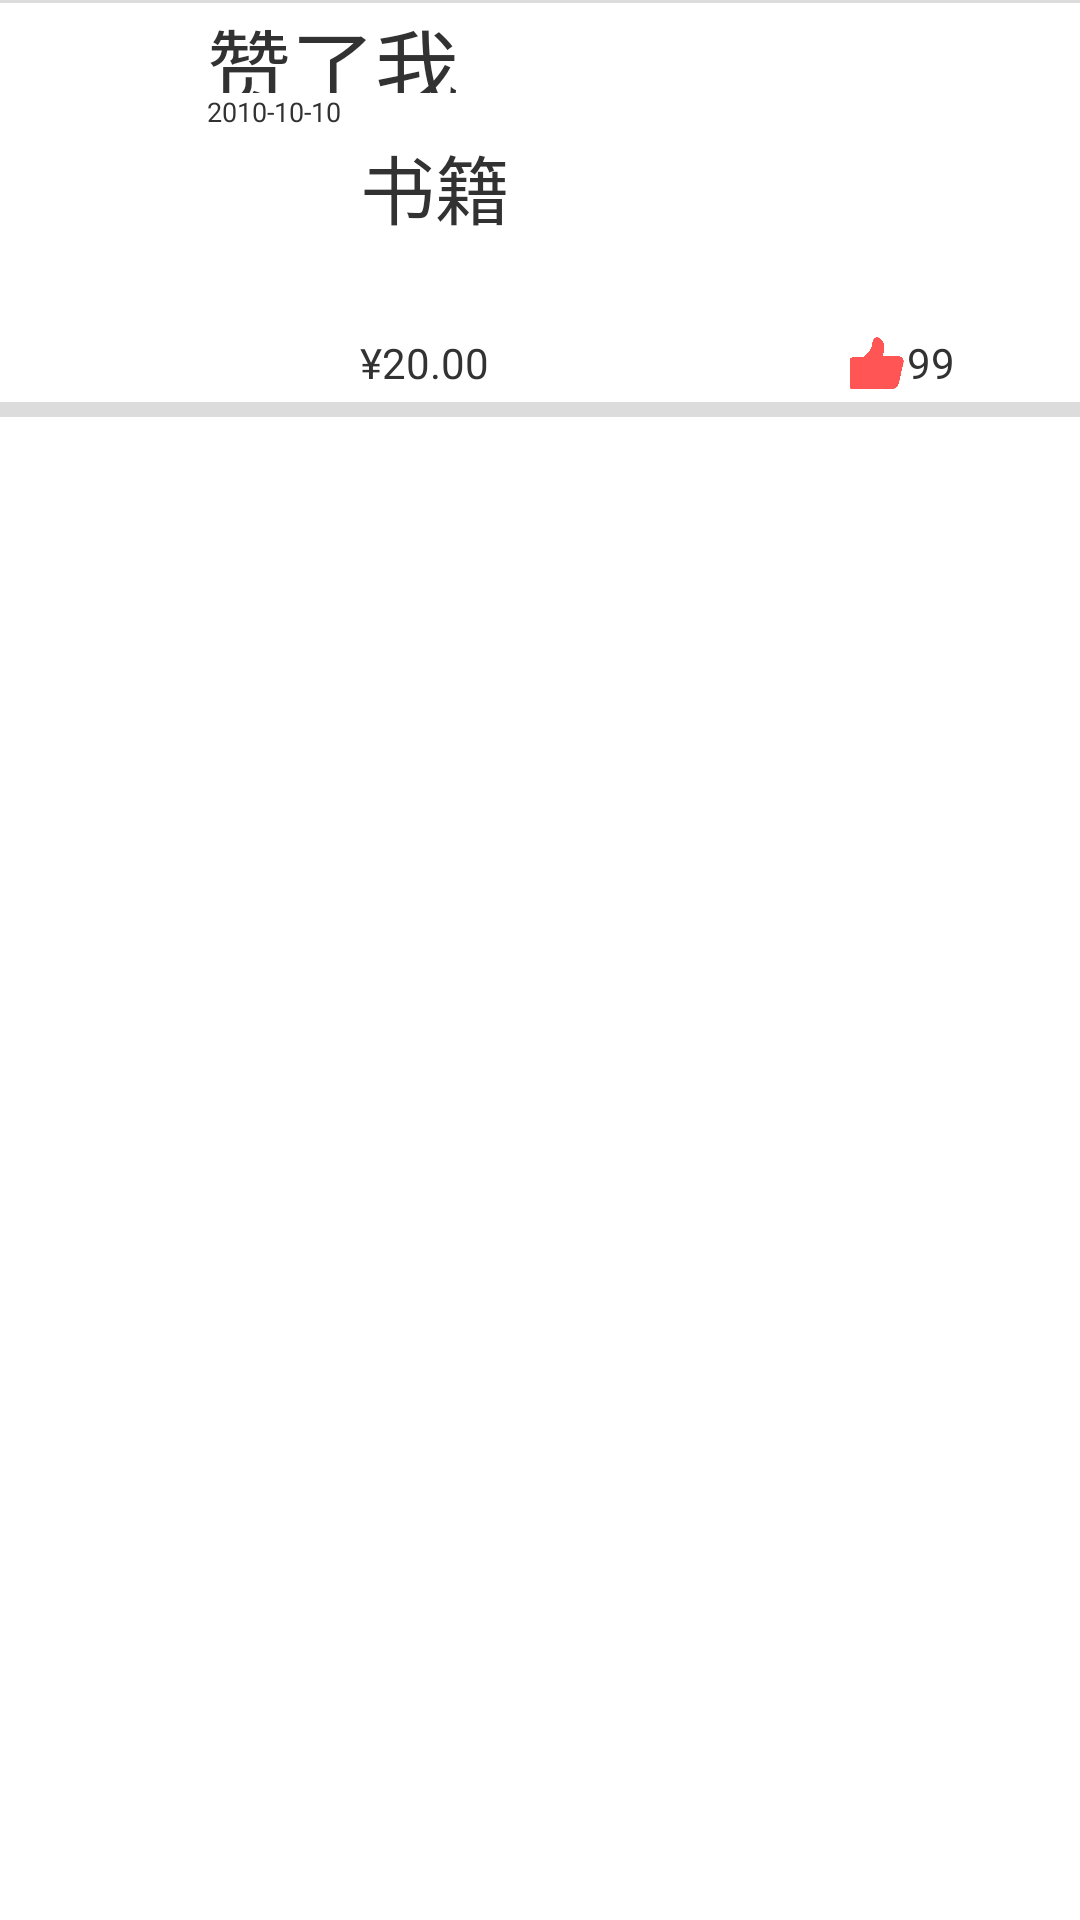

Icons on this 1080*1920 Android screen, each with the point to tap as (x,y):
zan: (877,363)
